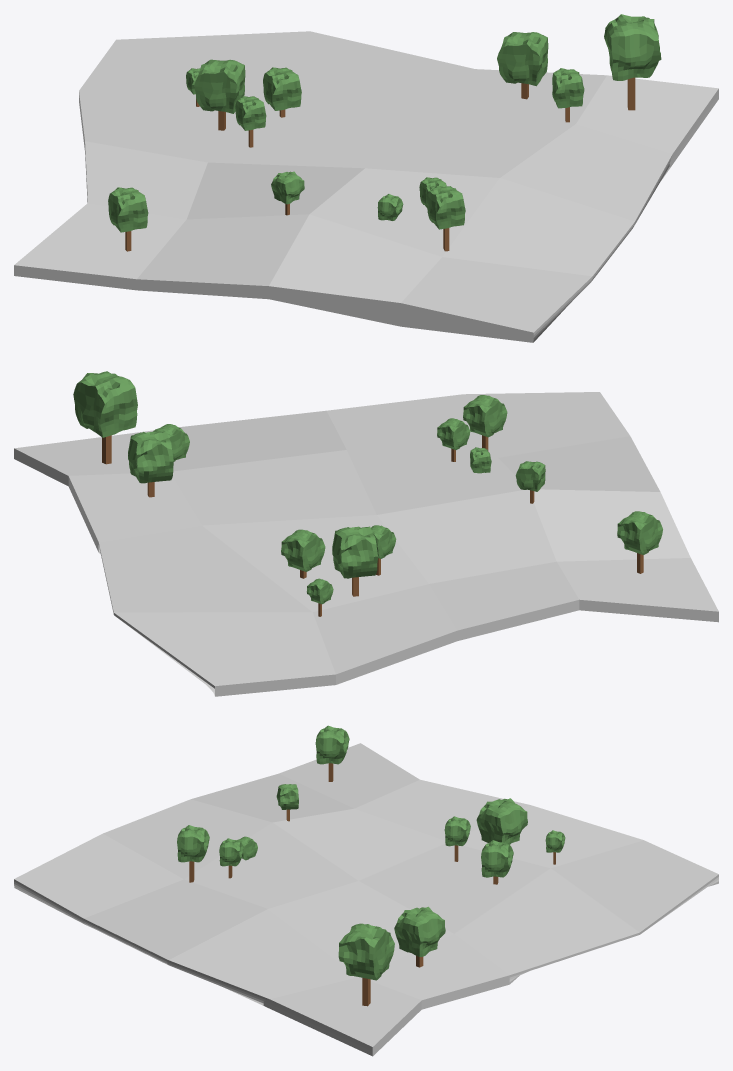
File: island6.glb
3 renders of one model, top to bottom at view 1: azimuth 30°, elevation 25°; view 2: azimuth 150°, elevation 25°; view 3: azimuth 270°, elevation 25°, orthographic. The views are drawn at different scales.
Parts seen in each view (by area): view 1: Hill.003, Tree.032, Tree.030, Tree.024, Tree.033, Tree.026, Tree.027, Tree.031, Tree.025, Tree.035, Tree.028; view 2: Hill.003, Tree.032, Tree.024, Tree.030, Tree.033, Tree.026, Tree.027, Tree.029, Tree.035, Tree.031, Tree.025, Tree.034; view 3: Hill.003, Tree.032, Tree.030, Tree.024, Tree.033, Tree.027, Tree.026, Tree.025, Tree.029, Tree.035.
Part boxes in pixels (left/top/right/bottom): Hill.003: left=14, top=31, right=718, bottom=342; Tree.032: left=604, top=14, right=661, bottom=80; Tree.030: left=497, top=32, right=548, bottom=86; Tree.024: left=194, top=59, right=245, bottom=113; Tree.033: left=108, top=187, right=148, bottom=232; Tree.026: left=263, top=67, right=301, bottom=110; Tree.027: left=426, top=186, right=465, bottom=229; Tree.031: left=552, top=68, right=584, bottom=108; Tree.025: left=235, top=96, right=266, bottom=130; Tree.035: left=271, top=171, right=304, bottom=204; Tree.028: left=377, top=194, right=403, bottom=220; Hill.003: left=14, top=392, right=718, bottom=696; Tree.032: left=73, top=371, right=137, bottom=437; Tree.024: left=332, top=526, right=377, bottom=578; Tree.030: left=128, top=431, right=173, bottom=483; Tree.033: left=617, top=511, right=662, bottom=554; Tree.026: left=281, top=529, right=325, bottom=571; Tree.027: left=463, top=395, right=507, bottom=437; Tree.029: left=437, top=418, right=470, bottom=449; Tree.035: left=515, top=461, right=545, bottom=491; Tree.031: left=153, top=424, right=189, bottom=461; Tree.025: left=371, top=525, right=396, bottom=558; Tree.034: left=306, top=578, right=333, bottom=604; Hill.003: left=14, top=743, right=718, bottom=1056; Tree.032: left=338, top=923, right=394, bottom=980; Tree.030: left=394, top=906, right=445, bottom=956; Tree.024: left=476, top=798, right=527, bottom=844; Tree.033: left=315, top=725, right=349, bottom=764; Tree.027: left=177, top=825, right=209, bottom=862; Tree.026: left=481, top=840, right=513, bottom=877; Tree.025: left=444, top=816, right=470, bottom=846; Tree.029: left=219, top=838, right=243, bottom=866; Tree.035: left=276, top=784, right=298, bottom=809.
Size of the model in its own units: 5.39 by 0.7416 by 5.31.
